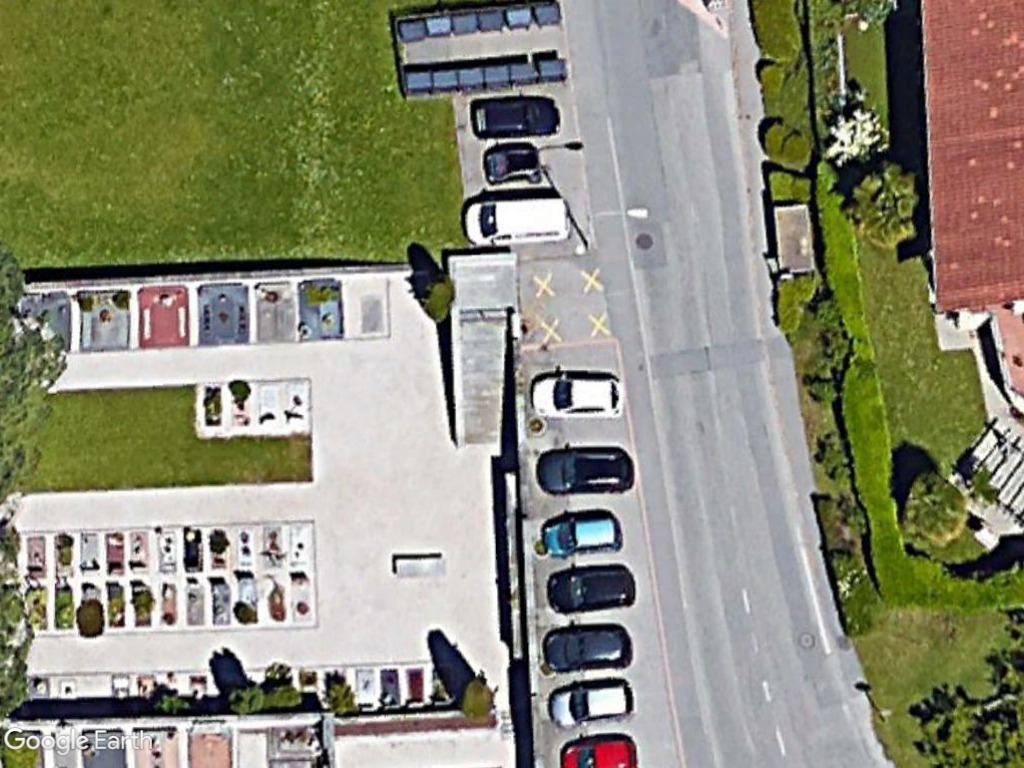car: (535, 444, 637, 497), (527, 372, 632, 422), (540, 623, 634, 676), (544, 677, 635, 730), (542, 566, 637, 613), (538, 512, 625, 559), (471, 97, 565, 140)
van: (455, 194, 579, 249)
